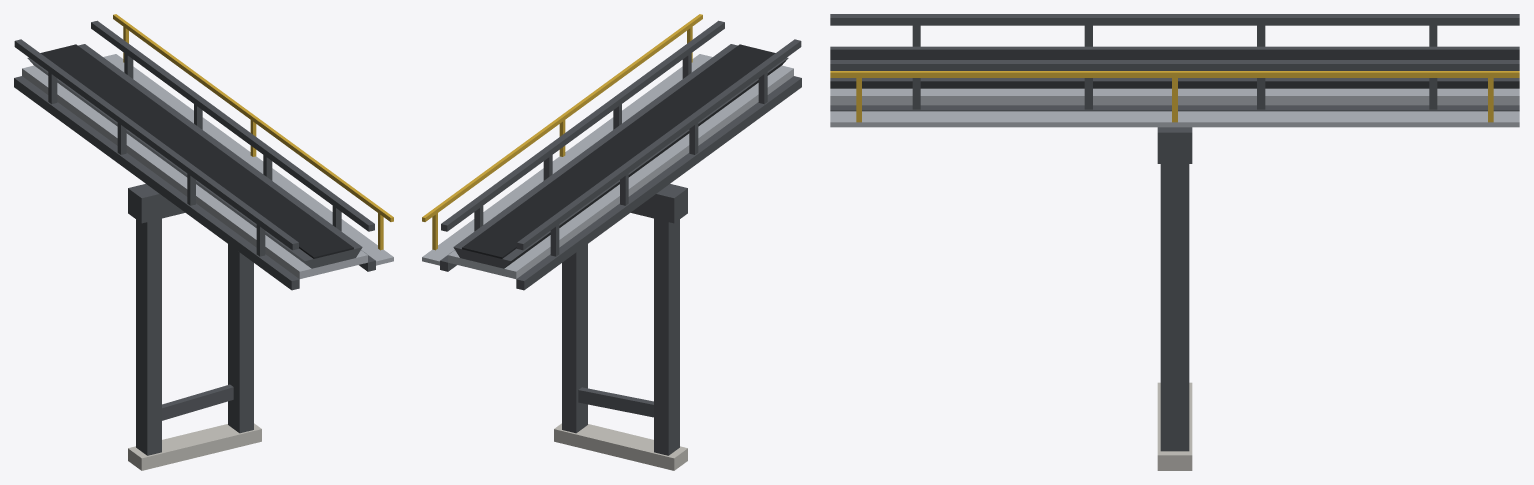
Rendered from link_conveyor.glb.
The picture shows the model from 3 angles, left to right: view 1: azimuth 30°, elevation 25°; view 2: azimuth 150°, elevation 25°; view 3: azimuth 270°, elevation 25°; orthographic projection. The views are drawn at different scales.
Visible parts, largest first — view 1: link_conveyor; view 2: link_conveyor; view 3: link_conveyor.
Boxes of the visible parts, x1,y1,x2,y2 form: link_conveyor: (14,14,393,470); link_conveyor: (422,14,801,470); link_conveyor: (830,14,1519,470).
Bounding box in the file's own units: 3 × 7.65 × 12.
